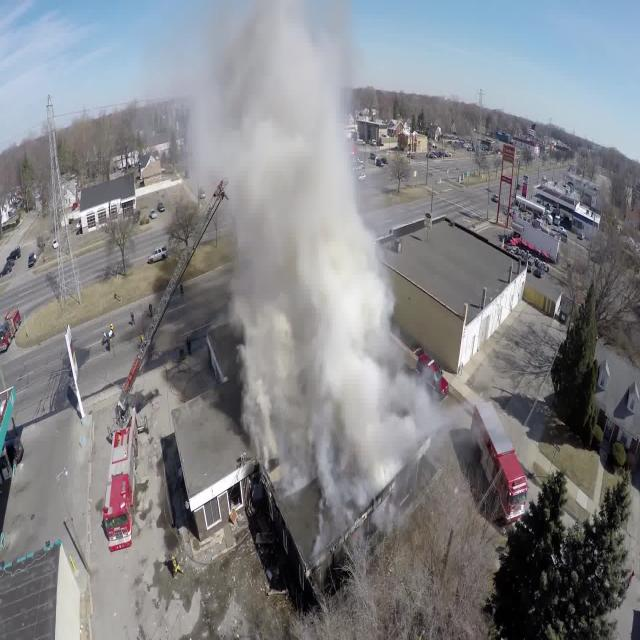Smoke: (168, 19, 440, 502)
